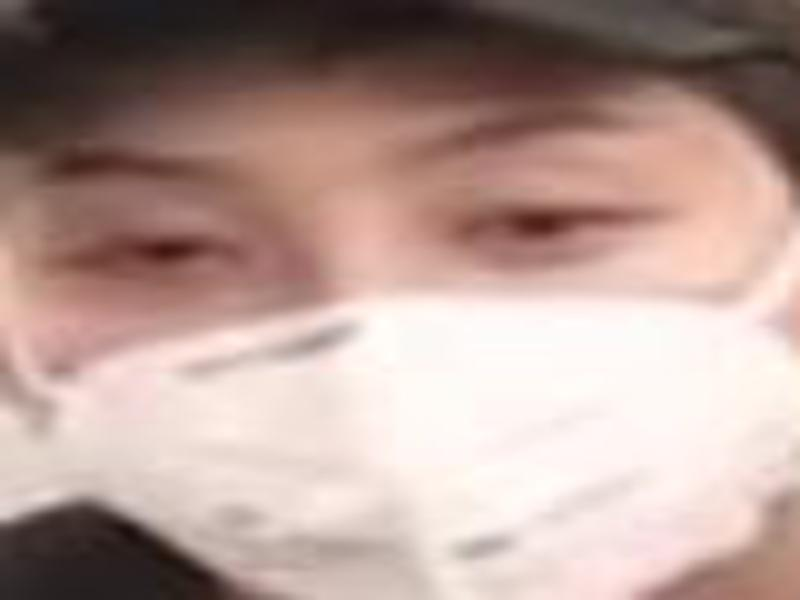with_mask: (1, 45, 796, 596)
